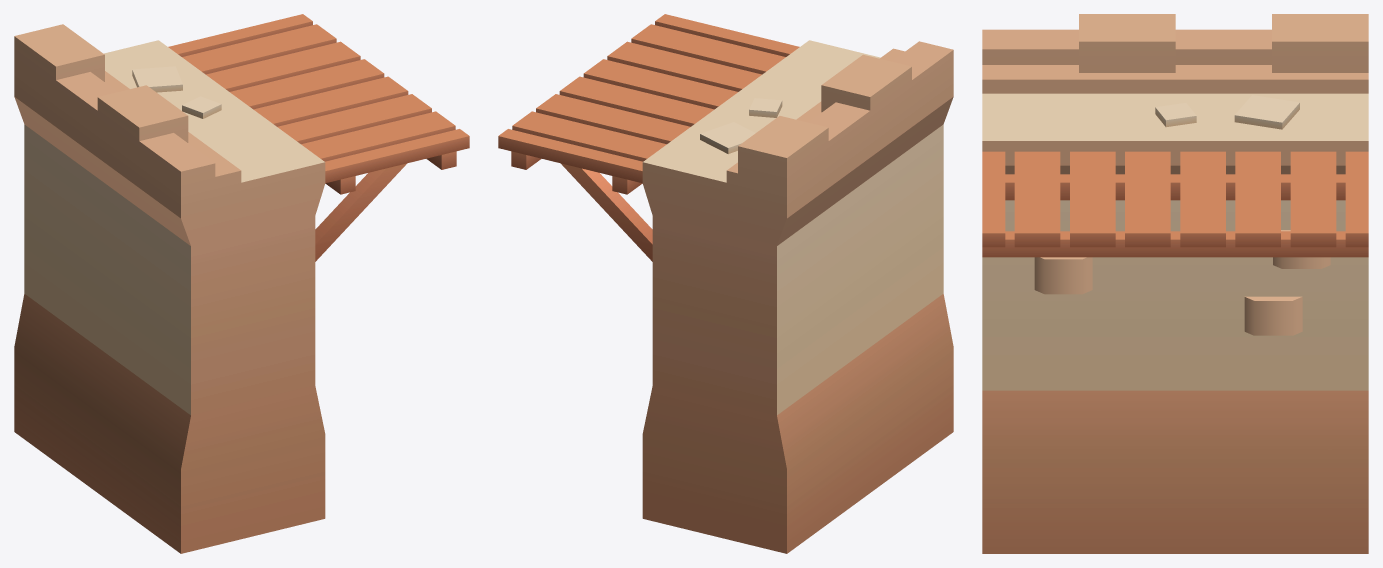
The model's file is kenney-castle-wall-narrow-wood.glb.
3 renders of one model, left to right at view 1: azimuth 30°, elevation 25°; view 2: azimuth 150°, elevation 25°; view 3: azimuth 270°, elevation 25°, orthographic. The views are drawn at different scales.
Visible parts, largest first — view 1: wall-narrow-wood; view 2: wall-narrow-wood; view 3: wall-narrow-wood.
Part boxes in pixels (x1=…): wall-narrow-wood: x1=14, y1=14, x2=469, y2=553; wall-narrow-wood: x1=498, y1=14, x2=953, y2=553; wall-narrow-wood: x1=982, y1=14, x2=1368, y2=553.
Bounding box in the file's own units: 1 × 1.31 × 1.
1 material, 1 textured.
